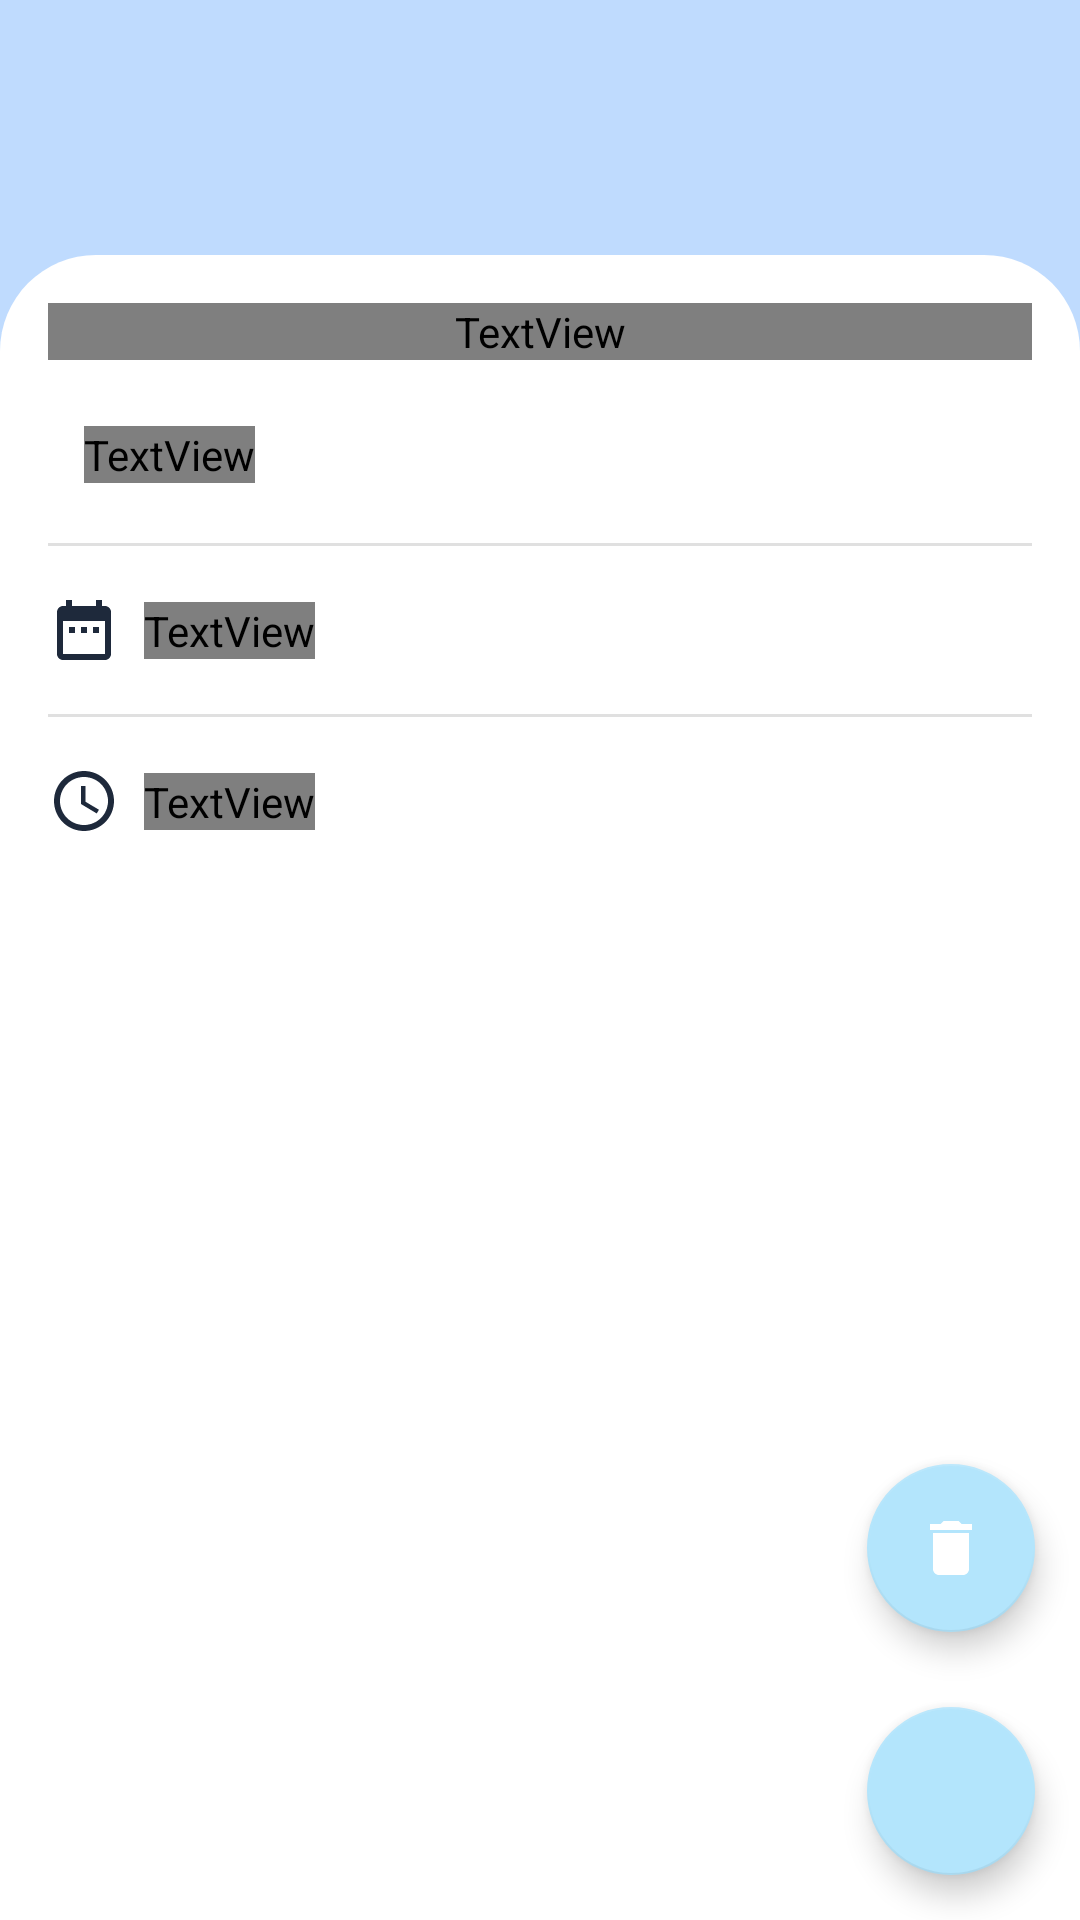

Where to tap for icons on this 1080*1920 app screen, as (x=x, y=y):
Date: (x=84, y=630)
Delete this expense: (x=951, y=1548)
Time: (x=84, y=801)
